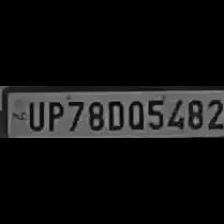2: (204, 96, 222, 130)
4: (166, 96, 184, 130)
5: (145, 96, 163, 130)
7: (63, 98, 83, 132)
8: (85, 97, 105, 130), (184, 96, 202, 130)
D: (105, 97, 124, 131)
P: (44, 98, 64, 132)
Q: (124, 96, 144, 130)
U: (24, 98, 43, 130)
